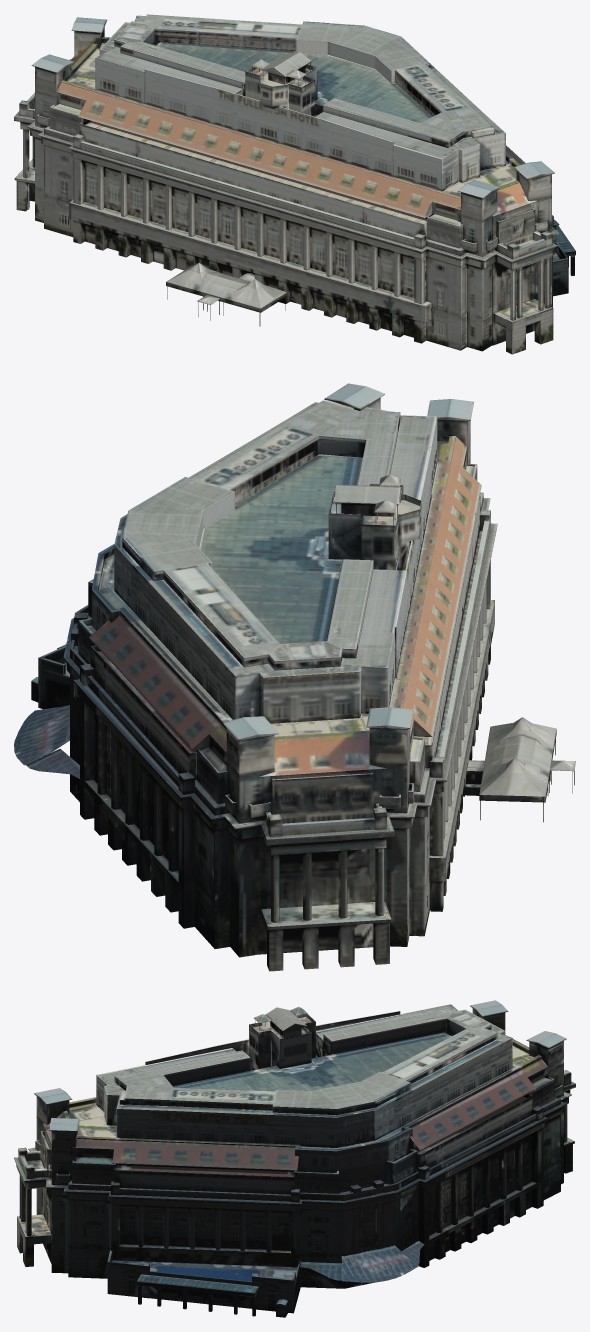
3 renders of one model, top to bottom at view 1: azimuth 30°, elevation 25°; view 2: azimuth 150°, elevation 25°; view 3: azimuth 270°, elevation 25°, orthographic. The views are drawn at different scales.
Parts seen in each view (by area): view 1: 11_0.glb; view 2: 11_0.glb; view 3: 11_0.glb.
Part boxes in pixels (x1,y1,x2,y2): 11_0.glb: [14, 14, 575, 354]; 11_0.glb: [14, 383, 575, 971]; 11_0.glb: [14, 1000, 575, 1317].
Bounding box in the file's own units: 97.77 × 50.7 × 133.
1 material, 1 textured.
